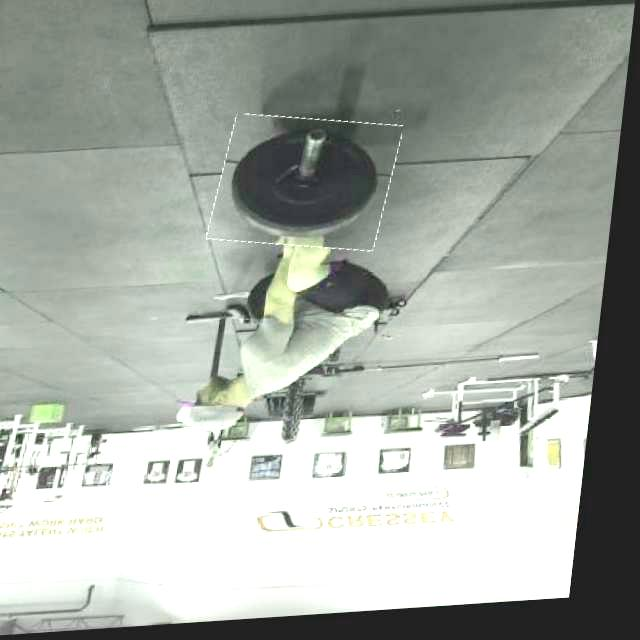barbell: (215, 116, 405, 261)
